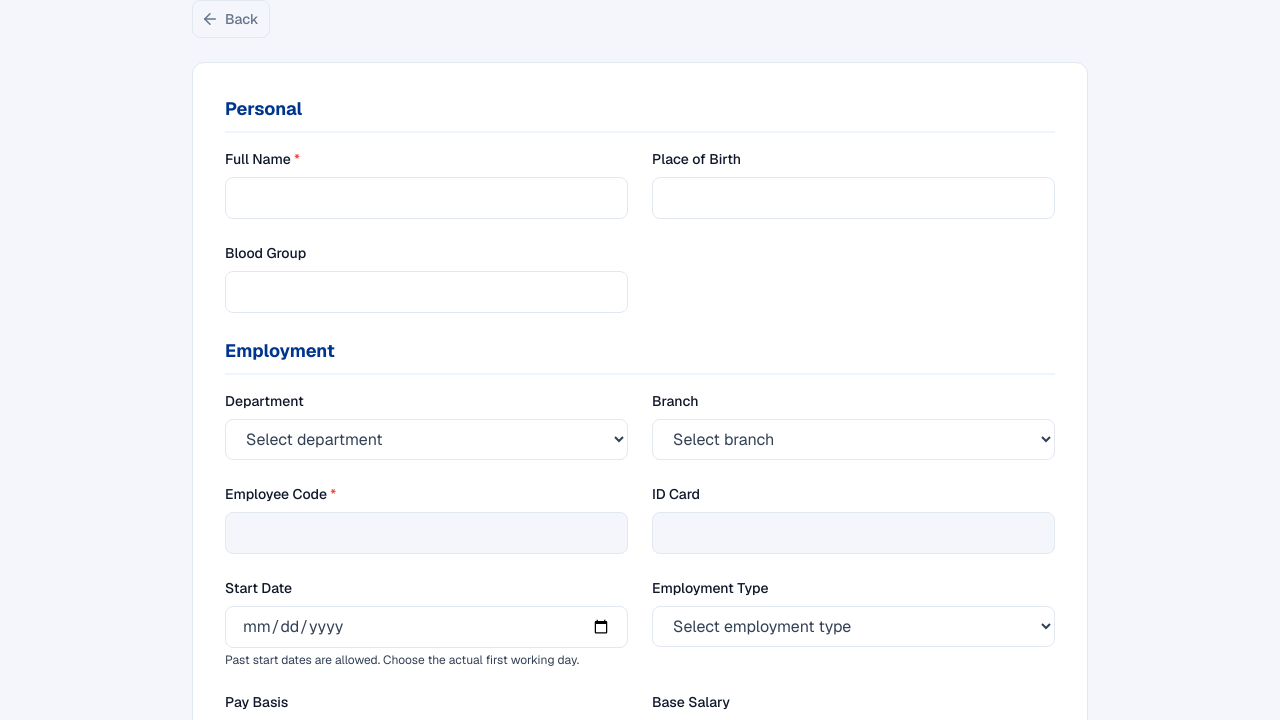
Scenario: a rejected save › puts the server’s per-field reasons on the fields themselves
Type "Salim Al Hinai" into the field below "Full Name" at (426, 198), box top-left (225, 177), bottom-right (628, 219)
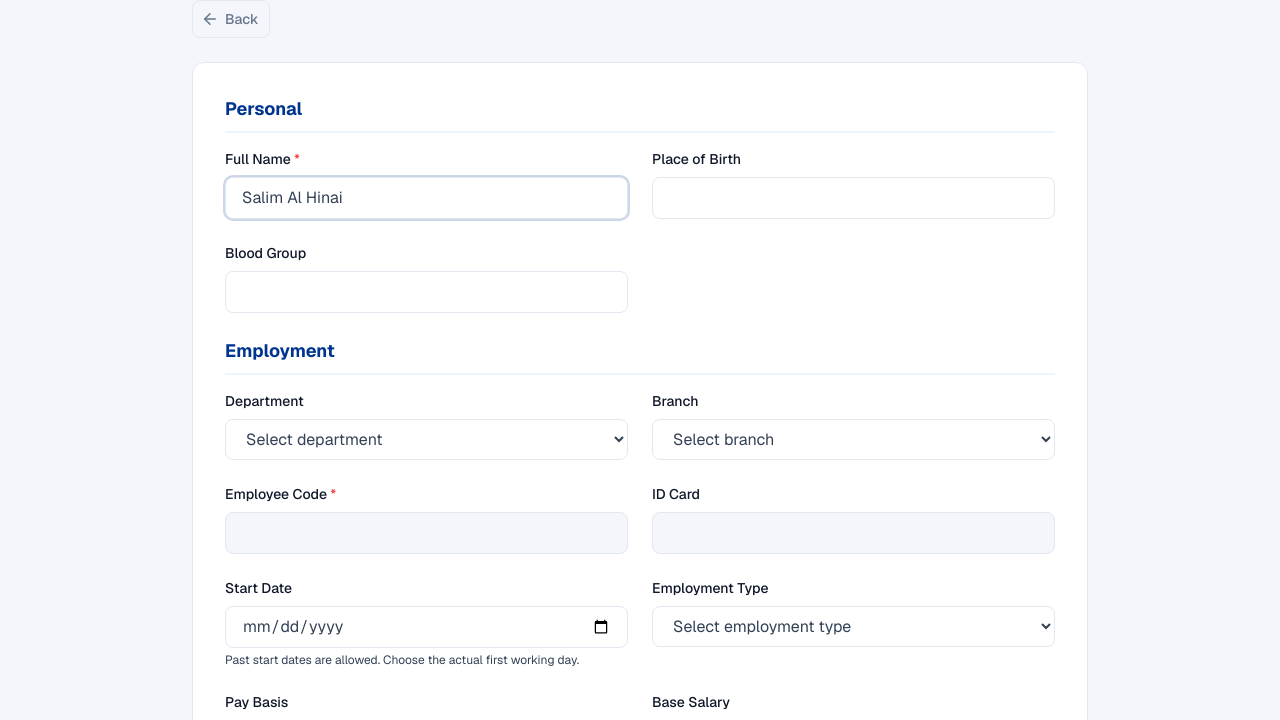
Type "ZZ" into the field below "Blood Group" at (426, 292), box top-left (225, 271), bottom-right (628, 313)
(page scrolled)
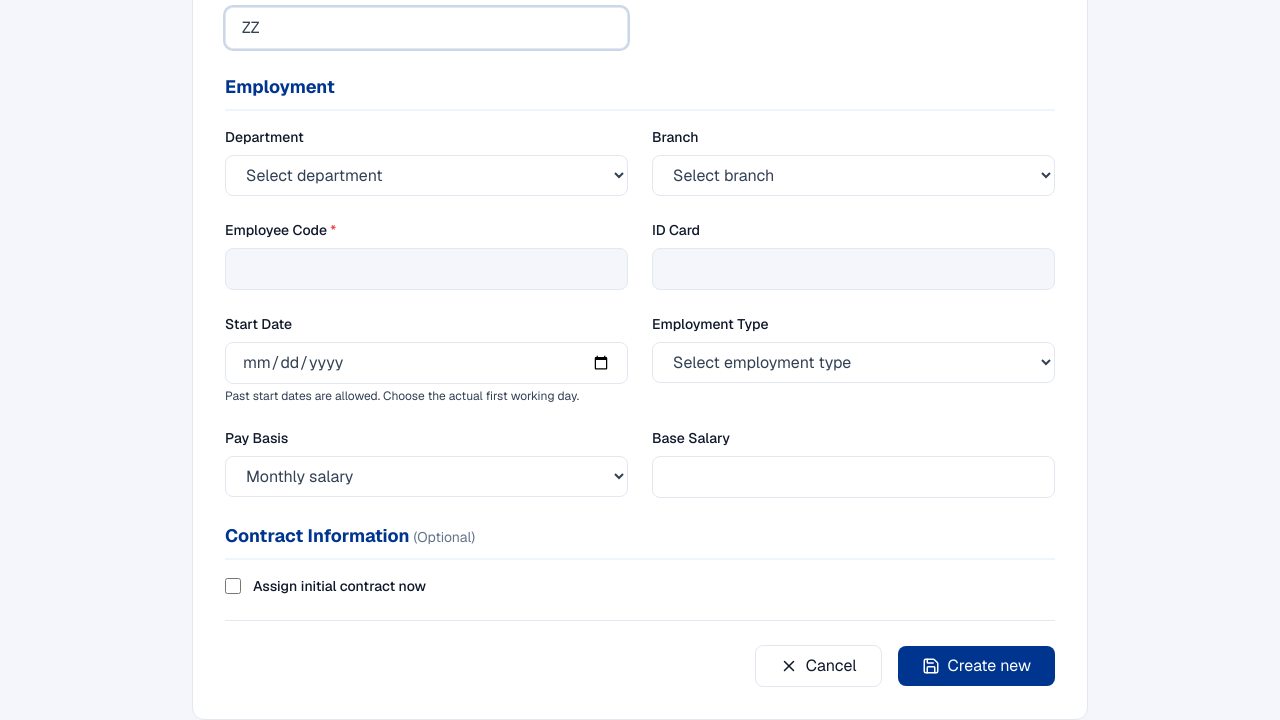
Click the button "Create new" at (976, 666), box top-left (898, 646), bottom-right (1055, 686)
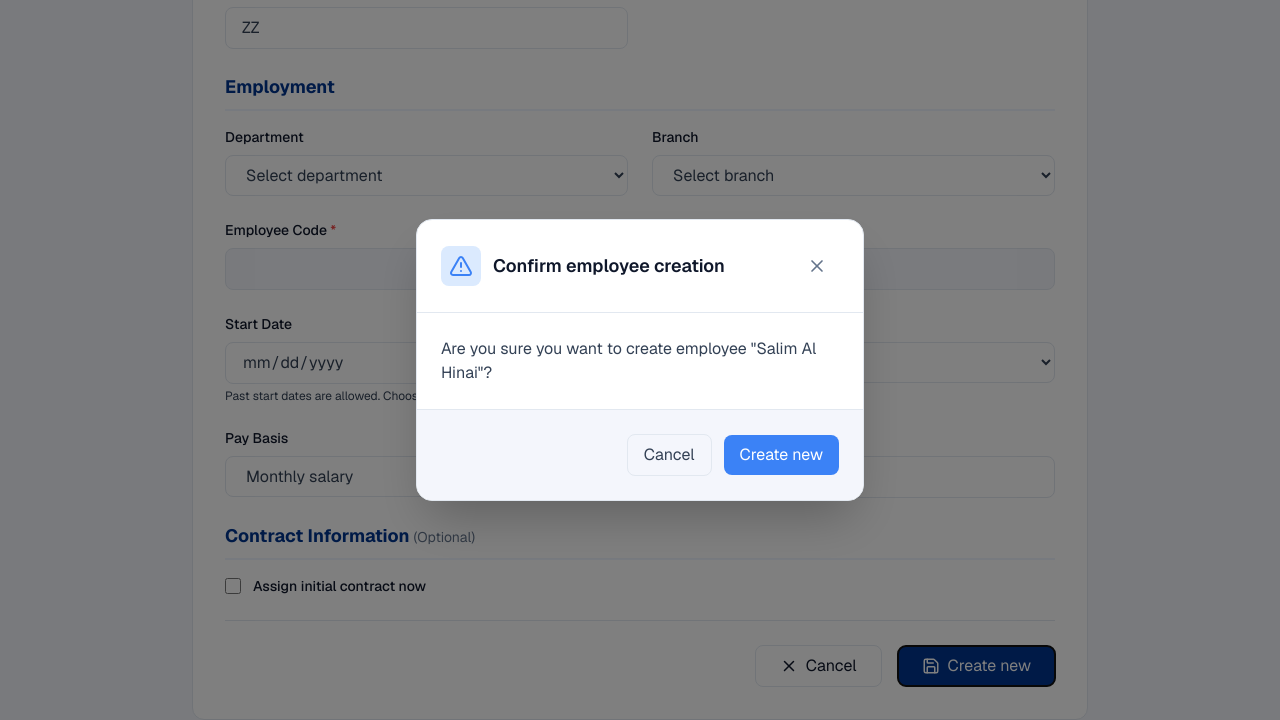
Click the button with test id "confirm-modal-confirm" at (781, 455), box top-left (724, 435), bottom-right (839, 475)
(page scrolled)
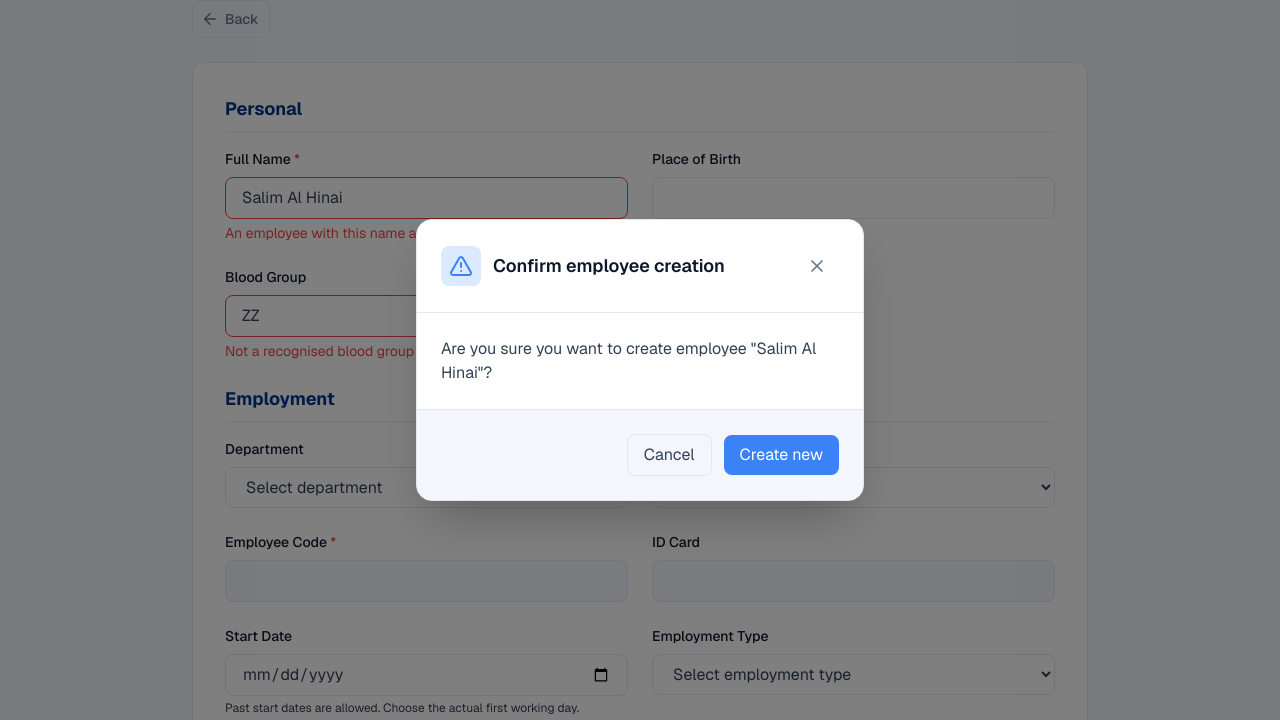
Check: the text "An employee with this name already exists" is shown, box top-left (225, 224), bottom-right (497, 242)
Check: the text "Not a recognised blood group" is shown, box top-left (225, 342), bottom-right (414, 360)
